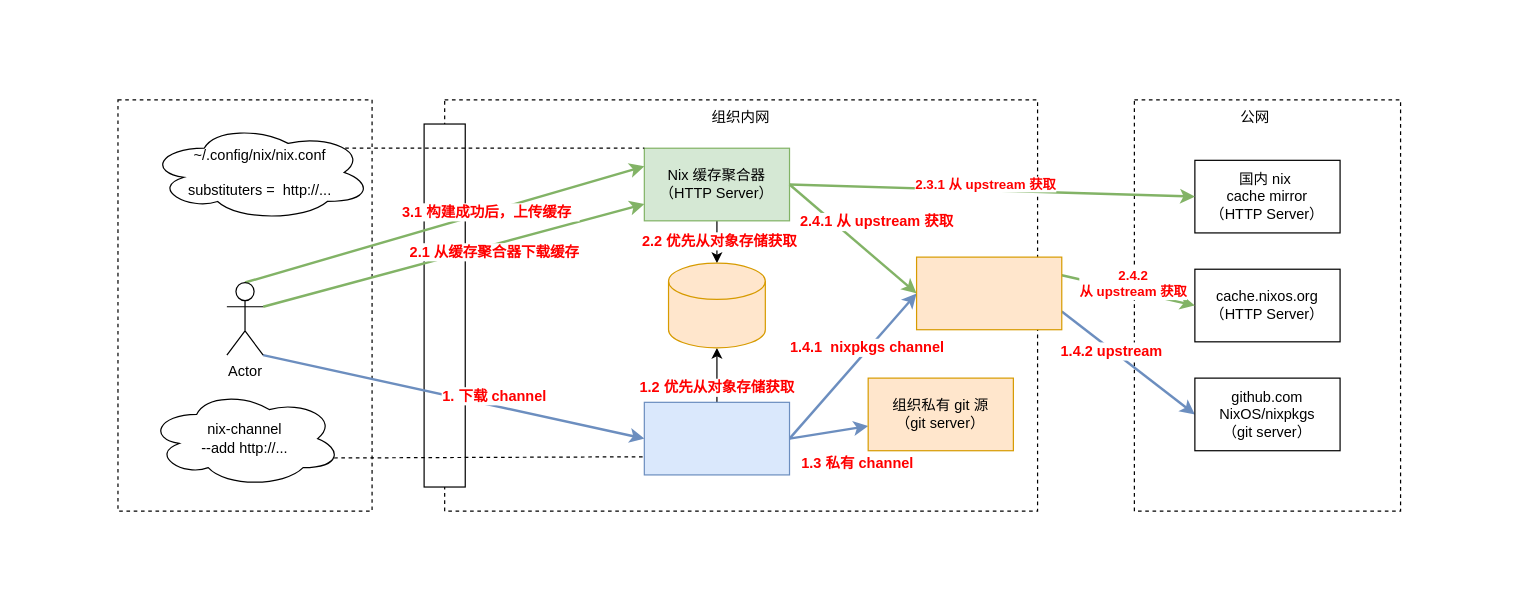
This 1529x610 diagram has some shape labels left out. Here are the shapes that lost their labels. From the top down, the centre of each, then its label:
At pixel 444 305: "Nginx 7 层 代理".
At pixel 716 305: "对象存储".
At pixel 988 293: "海外专线代理 （HTTP Proxy）".
At pixel 716 438: "Channel 聚合服务 （HTTP Server）".
